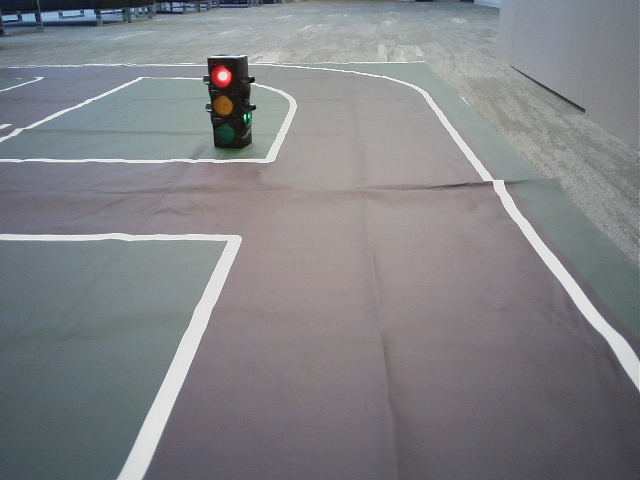red: (210, 60, 238, 145)
